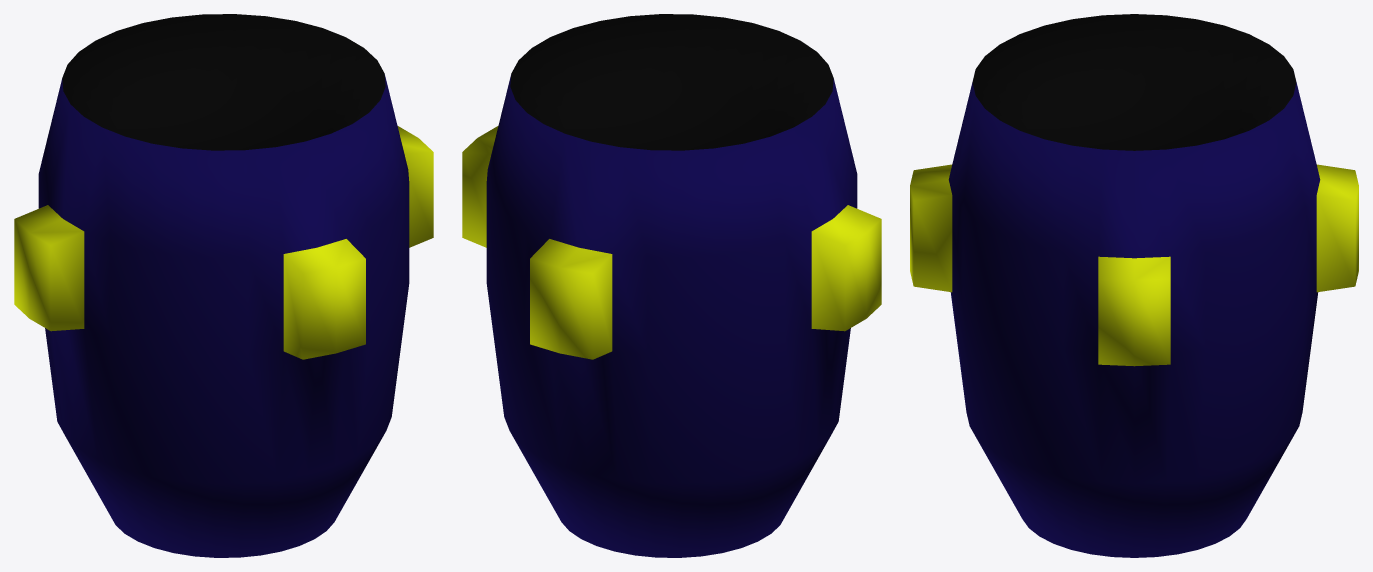
The model's file is spacebossGun.fbx.
The picture shows the model from 3 angles, left to right: view 1: azimuth 30°, elevation 25°; view 2: azimuth 150°, elevation 25°; view 3: azimuth 270°, elevation 25°; orthographic projection.
Parts seen in each view (by area): view 1: Cylinder; view 2: Cylinder; view 3: Cylinder.
Part boxes in pixels (box(x1,y1,x2,y2)): Cylinder: box(14, 14, 433, 557); Cylinder: box(462, 14, 881, 557); Cylinder: box(910, 14, 1358, 557).
Bounding box in the file's own units: 209 × 220 × 209.
